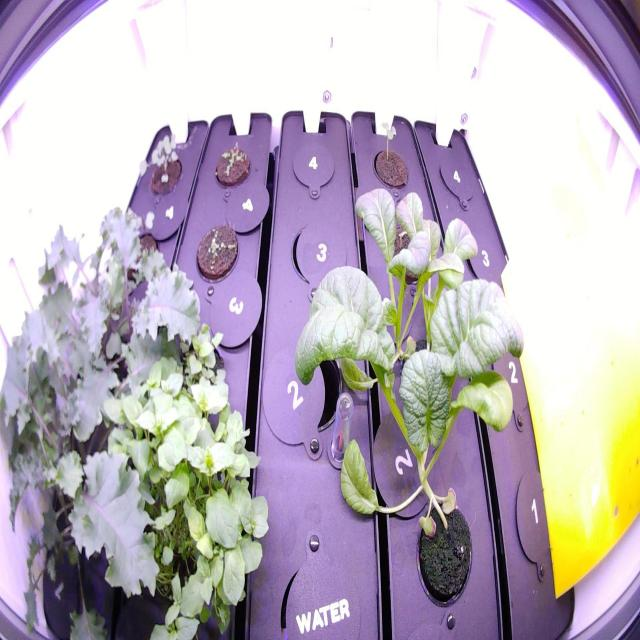empty_pod: (276, 340, 347, 442), (507, 464, 565, 584), (482, 320, 539, 426), (285, 212, 352, 289), (459, 222, 512, 298), (285, 137, 339, 203), (433, 150, 480, 212)
germination: (361, 116, 422, 200), (134, 123, 188, 208), (190, 215, 241, 286), (211, 132, 254, 192)
